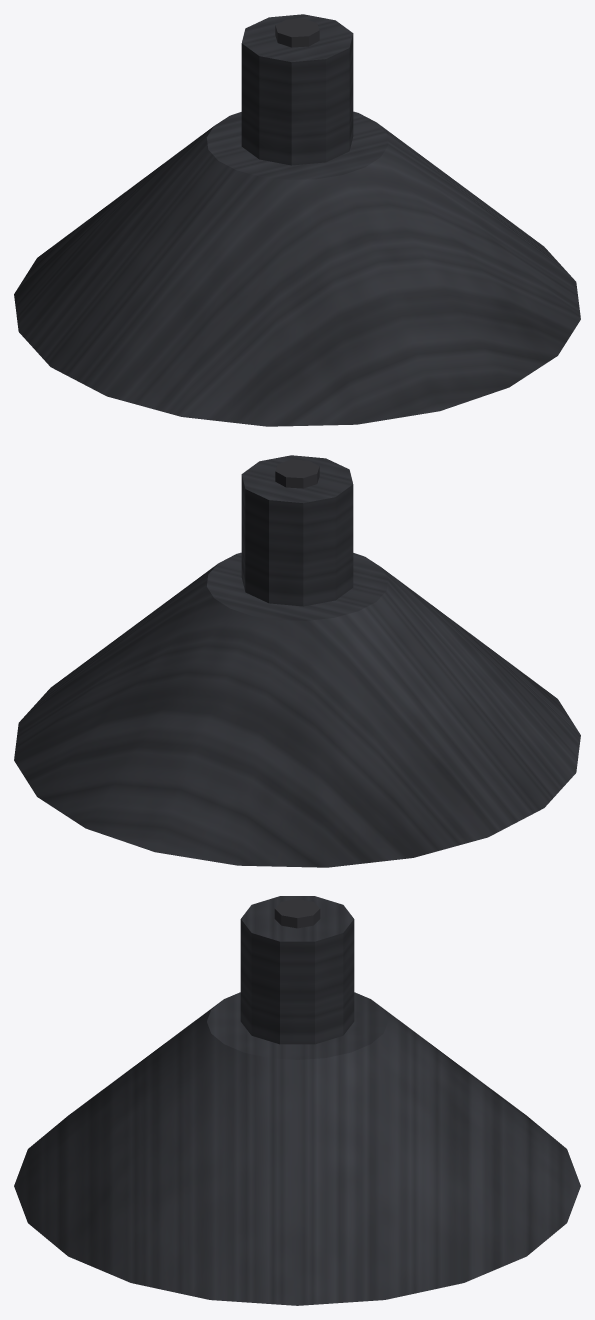
Rendered from Lamp_Main.fbx.
3 renders of one model, top to bottom at view 1: azimuth 30°, elevation 25°; view 2: azimuth 150°, elevation 25°; view 3: azimuth 270°, elevation 25°, orthographic.
Parts seen in each view (by area): view 1: Lamp_Main; view 2: Lamp_Main; view 3: Lamp_Main.
Part boxes in pixels (<box>): Lamp_Main: <box>14,14,580,426</box>; Lamp_Main: <box>14,455,580,867</box>; Lamp_Main: <box>14,896,580,1305</box>.
Size of the model in its own units: 0.5 by 0.37 by 0.5.
Materials: 3 (1 with a texture image).
